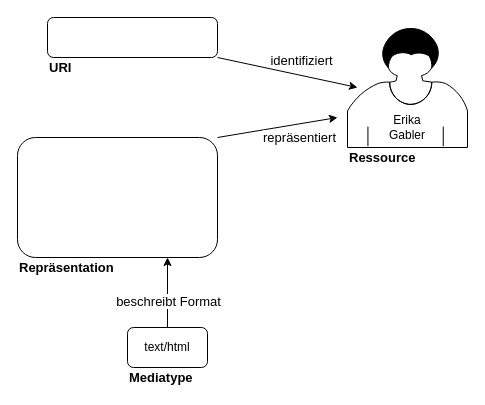
This 485x405 diagram has some shape labels left out. The centre of each missing label's shape, as x and y in pixels:
"<!DOCTYPE html> <html> <body> <h1>Erika Gabler</h1> </body> </html>" goes at [117,197].
"https://example.com/erika" goes at [132,37].
